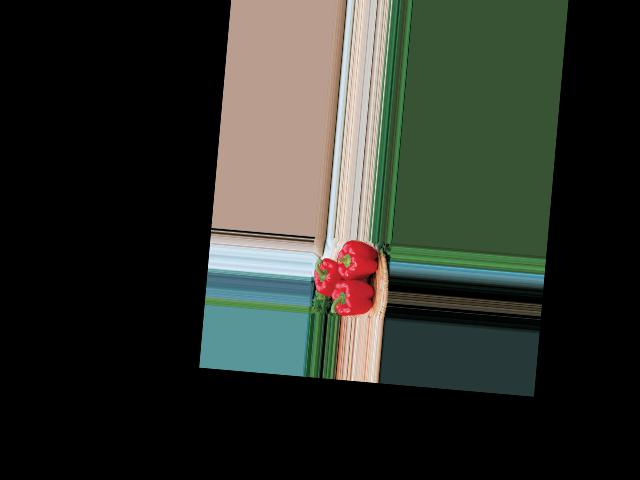bell_pepper: (329, 272, 380, 318)
